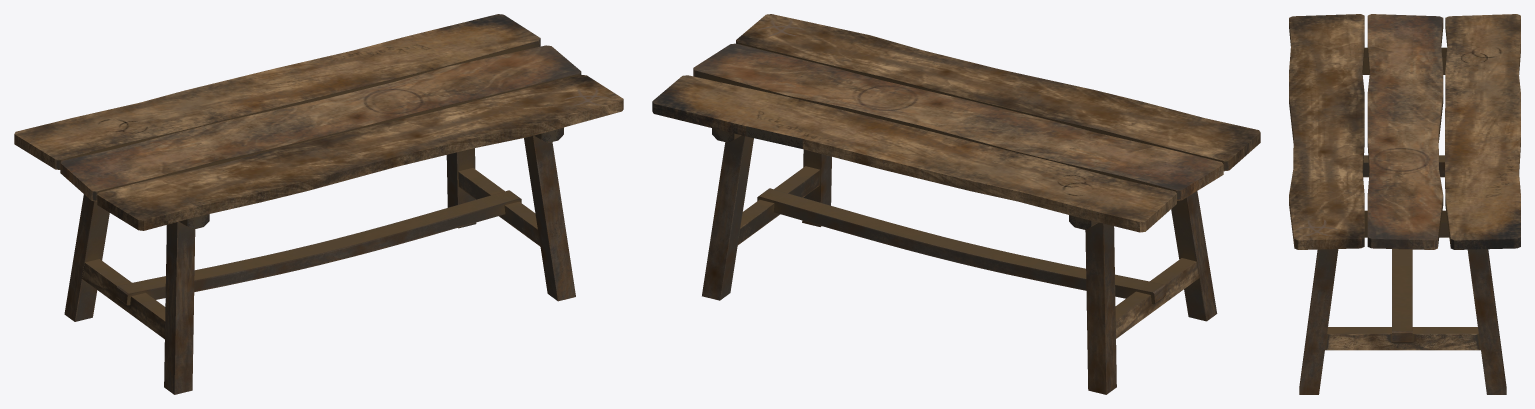
Rendered from table.glb.
3 views of the same model, side by side, from view 1: azimuth 30°, elevation 25°; view 2: azimuth 150°, elevation 25°; view 3: azimuth 270°, elevation 25° (orthographic). The views are drawn at different scales.
Visible parts, largest first — view 1: table; view 2: table; view 3: table.
Boxes of the visible parts, x1=… form: table: x1=14, y1=14, x2=623, y2=394; table: x1=652, y1=14, x2=1260, y2=394; table: x1=1289, y1=14, x2=1520, y2=394.
Bounding box in the file's own units: 1 × 0.3626 × 0.4329.
1 material, 1 textured.
